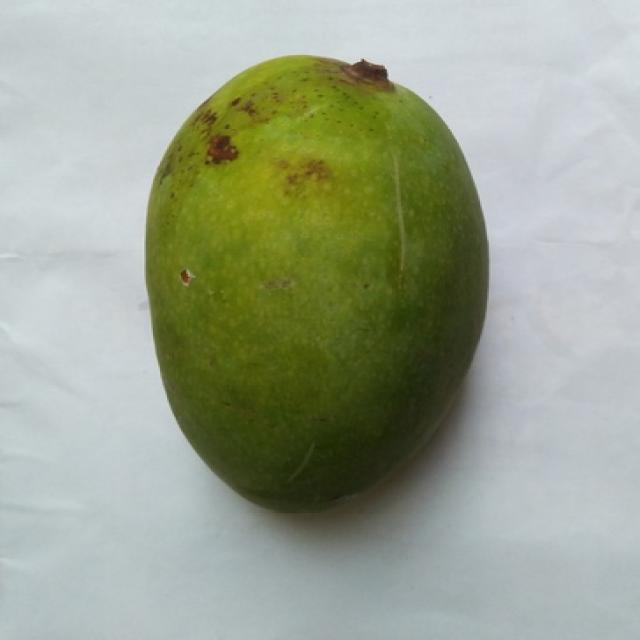Mango: (148, 55, 487, 511)
